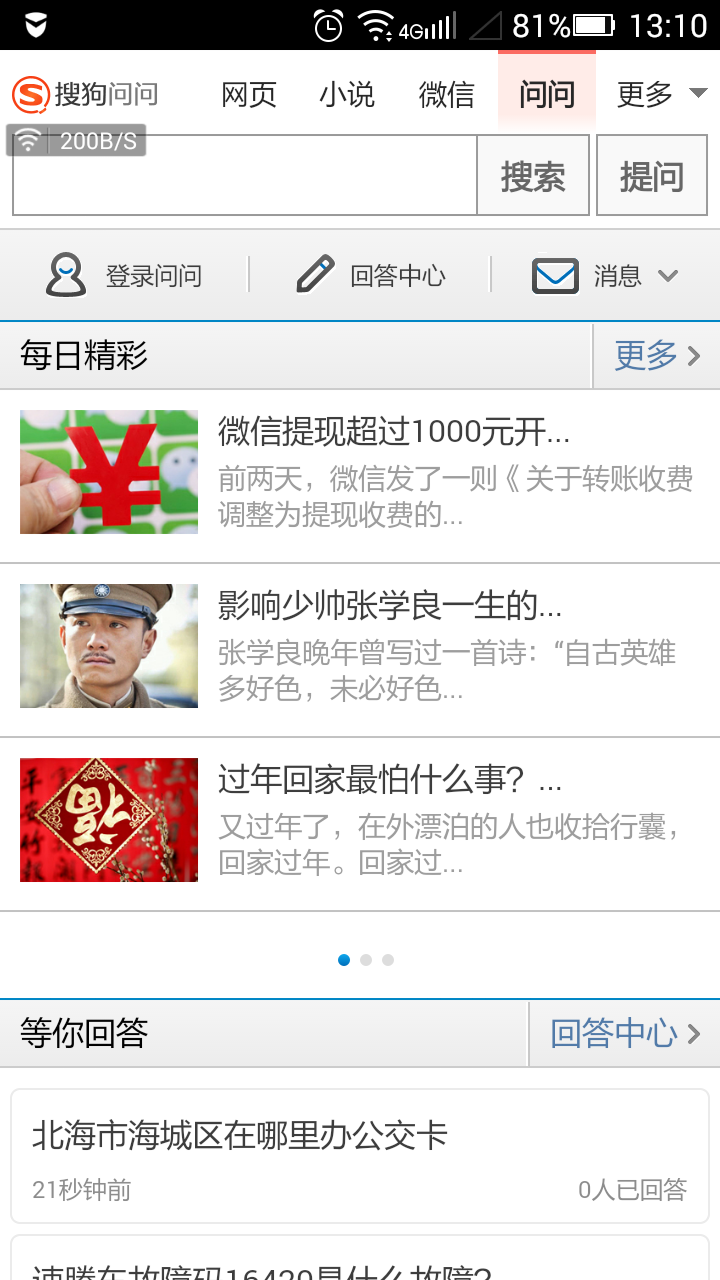button: (591, 125, 718, 225), (467, 127, 595, 222)
imgbutton: (679, 68, 712, 113)
imgview: (13, 399, 204, 538)
textview: (10, 387, 717, 922), (9, 1083, 720, 1233), (6, 130, 486, 221)
